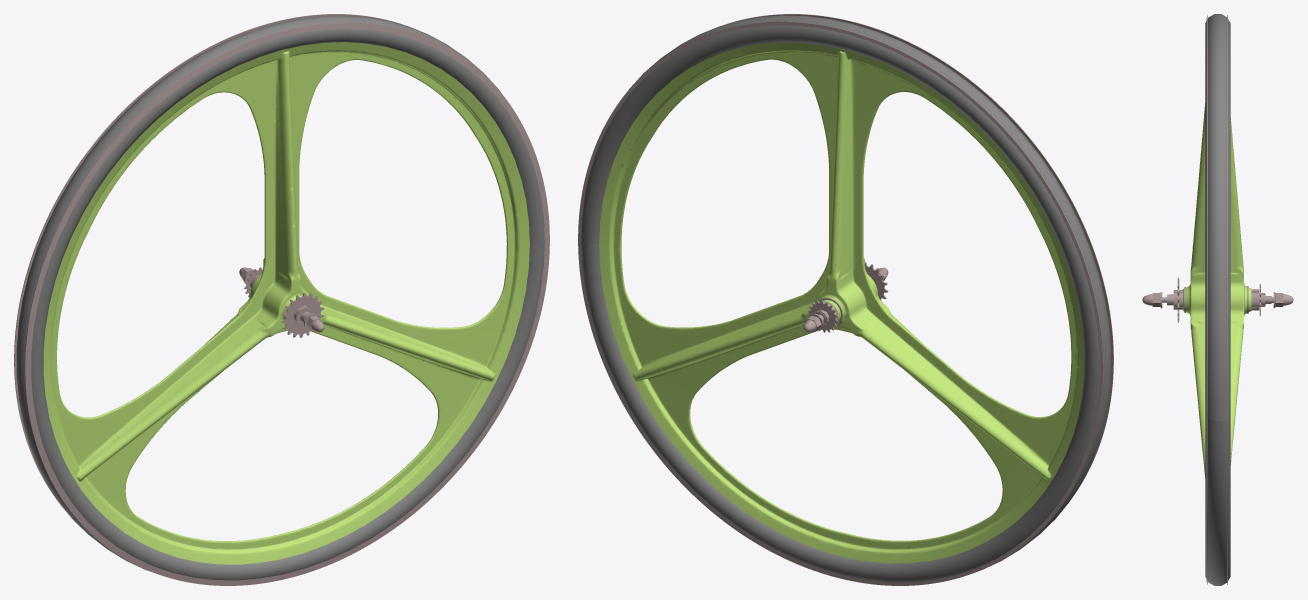
File: Mango_Wheels_3SpokeMag.glb
The picture shows the model from 3 angles, left to right: view 1: azimuth 30°, elevation 25°; view 2: azimuth 150°, elevation 25°; view 3: azimuth 270°, elevation 25°; orthographic projection. The views are drawn at different scales.
Parts seen in each view (by area): view 1: no_transformations (×3); view 2: no_transformations (×3); view 3: no_transformations (×3).
Boxes of the visible parts, bbox=[...] form: no_transformations (×3): bbox=[14, 14, 549, 585]; no_transformations (×3): bbox=[578, 14, 1113, 585]; no_transformations (×3): bbox=[1142, 14, 1293, 585].
Bounding box in the file's own units: 699 × 699 × 185.
